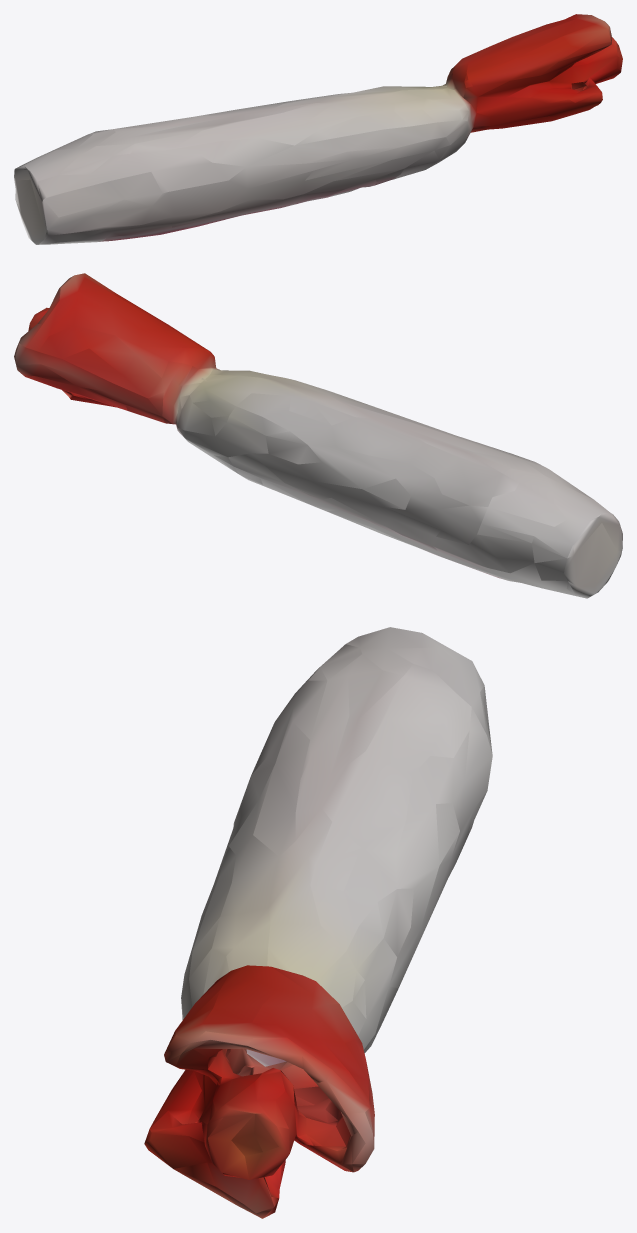
File: 0006_mask_007_red_marker.glb
3 views of the same model, one above another, from view 1: azimuth 30°, elevation 25°; view 2: azimuth 150°, elevation 25°; view 3: azimuth 270°, elevation 25° (orthographic). The views are drawn at different scales.
Visible parts, largest first — view 1: mask_007_object; view 2: mask_007_object; view 3: mask_007_object.
Boxes of the visible parts, bbox=[...] form: mask_007_object: bbox=[14, 14, 622, 244]; mask_007_object: bbox=[14, 273, 622, 598]; mask_007_object: bbox=[144, 627, 492, 1218].
Bounding box in the file's own units: 0.1921 × 0.0448 × 0.0524.
